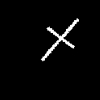single_crochet: (41, 19, 78, 60)
